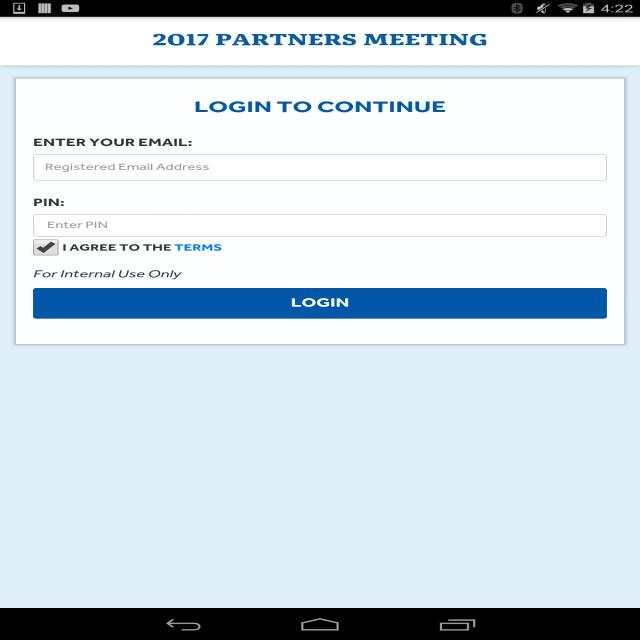button: (32, 288, 608, 320), (32, 238, 60, 257)
field: (31, 150, 608, 180), (36, 210, 608, 237)
heading: (148, 30, 496, 52), (185, 96, 449, 118)
label: (39, 160, 213, 173), (30, 136, 199, 148), (42, 215, 112, 232), (30, 196, 67, 207)
link: (171, 240, 229, 255)
text: (59, 239, 228, 254), (34, 268, 183, 280), (284, 296, 358, 311)
